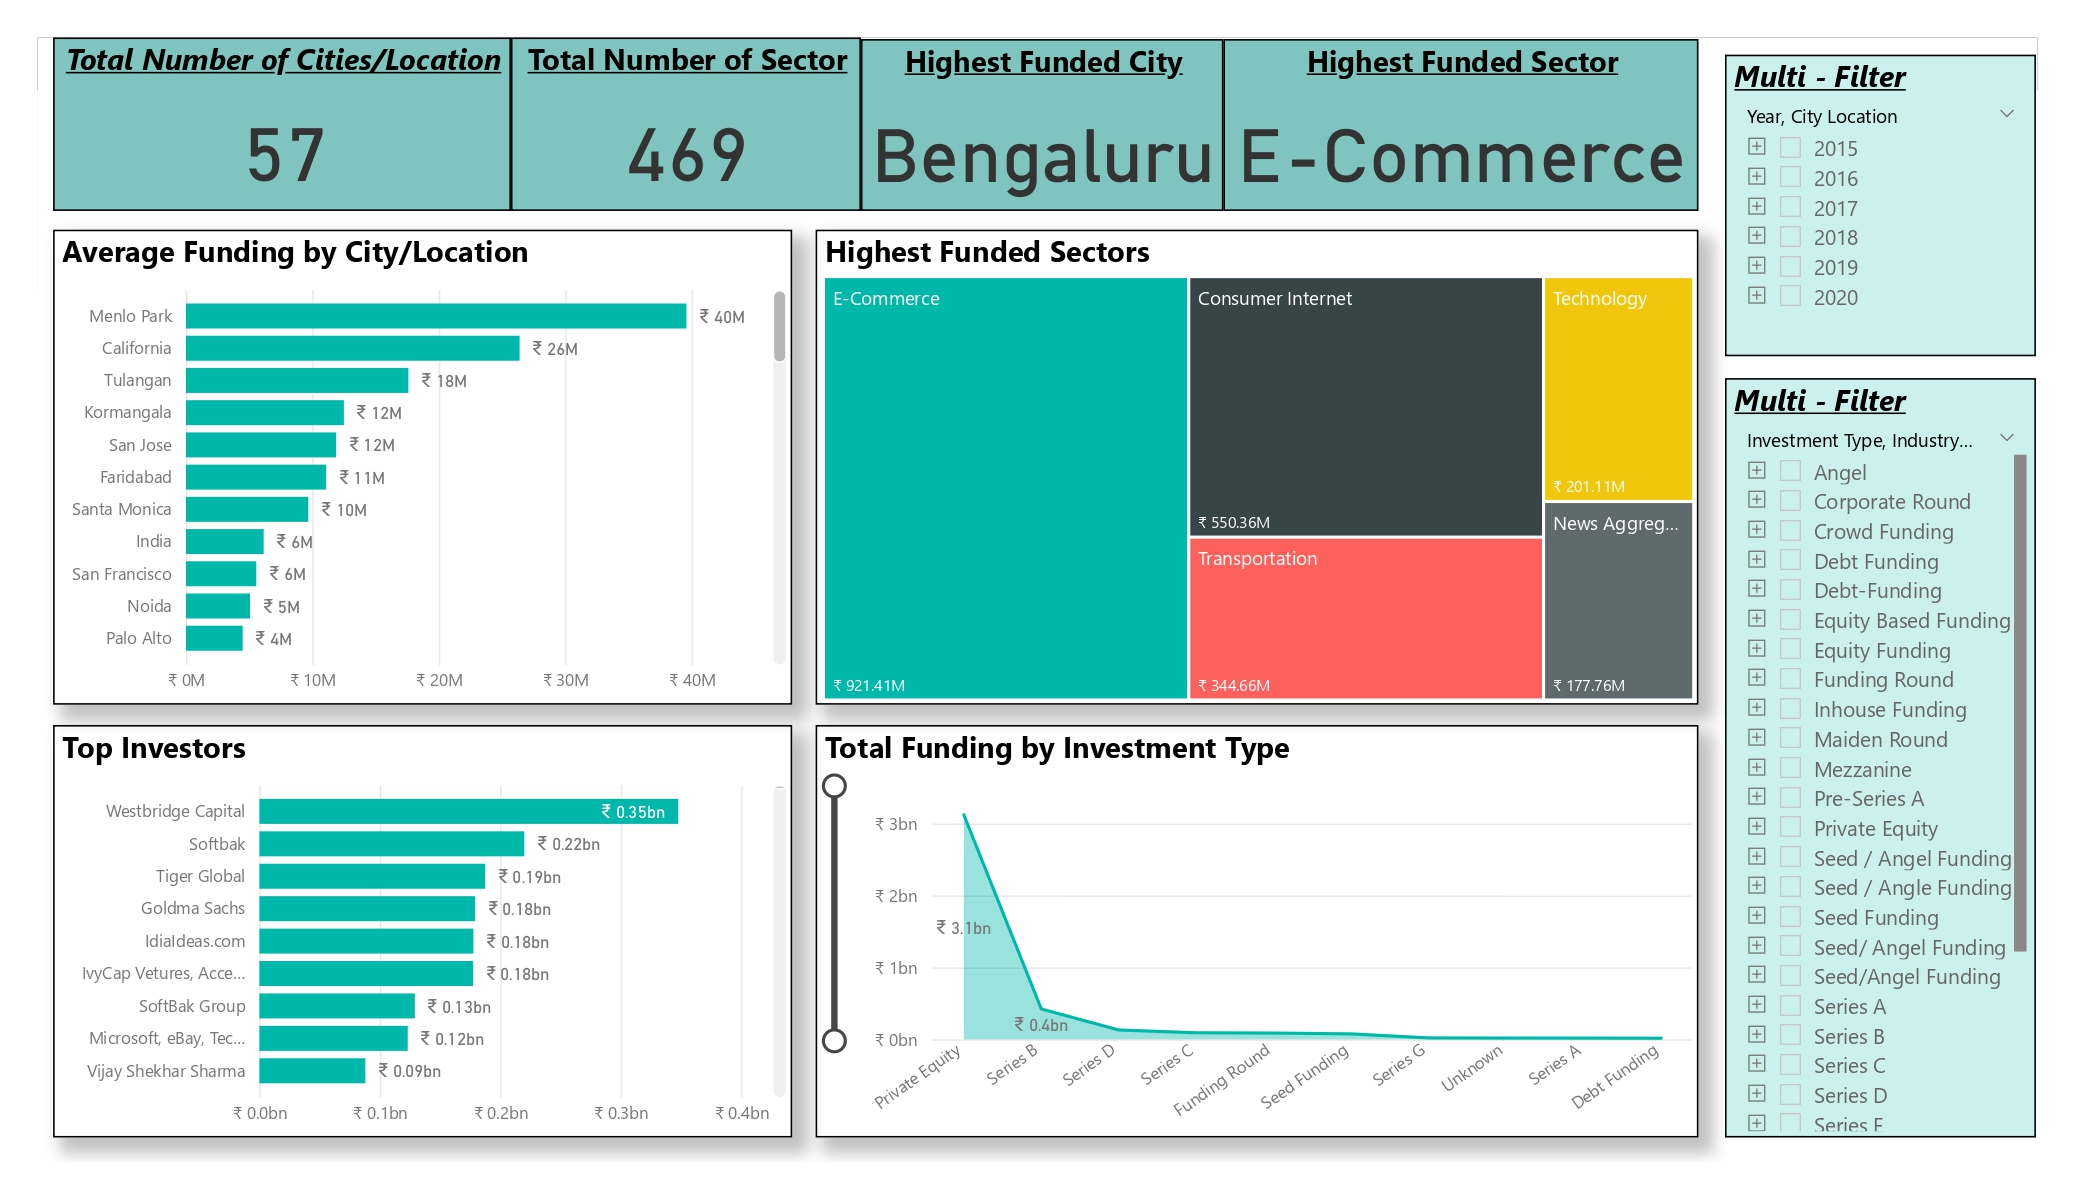

The page's visual inventory and layout, read from the dashboard file:
{"tool":"powerbi","page":{"name":"Page 3","canvas":[1280,720],"ordinal":3},"visuals":[{"type":"card","title":"Total Number of Cities/Location","fields":{"Values":["startup.Total cities covered"]},"box":[9.6,0,293.7,111.1],"z":0},{"type":"card","title":"Total Number of Sector","fields":{"Values":["startup.Total Industries"]},"box":[303.3,0,223.7,111.1],"z":1000},{"type":"card","title":"Highest Funded City","fields":{"Values":["startup.Highest Funded City"]},"box":[526.9,1.4,231.9,109.8],"z":2000},{"type":"card","title":"Highest Funded Sector","fields":{"Values":["startup.Highest Funded Sector"]},"box":[758.8,1.4,304.6,109.8],"z":3000},{"type":"clusteredBarChart","title":"Average Funding by City/Location","fields":{"Category":["startup.City Location"],"Y":["startup.Average Funding"]},"box":[9.6,123.5,473.4,303.3],"z":4000},{"type":"treemap","title":"Highest Funded Sectors","fields":{"Group":["startup.Industry Vertical"],"Values":["startup.Total Funding"]},"box":[498.1,123.5,565.4,303.3],"z":5000},{"type":"barChart","title":"Top Investors","fields":{"Category":["startup.Investors Name"],"Y":["startup.Total Funding"]},"box":[9.6,440.5,473.4,263.5],"z":6000},{"type":"stackedAreaChart","title":"Total Funding by Investment Type","fields":{"Y":["startup.Total Funding"],"Category":["startup.Investment Type"]},"box":[498.1,440.5,565.4,263.5],"z":7000},{"type":"slicer","title":"Multi - Filter","fields":{"Values":["startup.Date.Variation.Date Hierarchy.Year","startup.City Location"]},"box":[1079.9,11,199,193.5],"z":8000},{"type":"slicer","title":"Multi - Filter","fields":{"Values":["startup.Investment Type","startup.Industry Vertical"]},"box":[1079.9,218.2,199,485.8],"z":9000}]}

Visuals, with their boxes on the page's 1280x720 design canvas (x1, y1, x2, y2). These are canvas units, not pixel positions in the 2075x1200 screenshot, which may show the page scaled, cropped or inside an application window:
"Total Number of Cities/Location" card: (left=10, top=0, right=303, bottom=111)
"Total Number of Sector" card: (left=303, top=0, right=527, bottom=111)
"Highest Funded City" card: (left=527, top=1, right=759, bottom=111)
"Highest Funded Sector" card: (left=759, top=1, right=1063, bottom=111)
"Average Funding by City/Location" clusteredBarChart: (left=10, top=124, right=483, bottom=427)
"Highest Funded Sectors" treemap: (left=498, top=124, right=1064, bottom=427)
"Top Investors" barChart: (left=10, top=440, right=483, bottom=704)
"Total Funding by Investment Type" stackedAreaChart: (left=498, top=440, right=1064, bottom=704)
"Multi - Filter" slicer: (left=1080, top=11, right=1279, bottom=204)
"Multi - Filter" slicer: (left=1080, top=218, right=1279, bottom=704)
